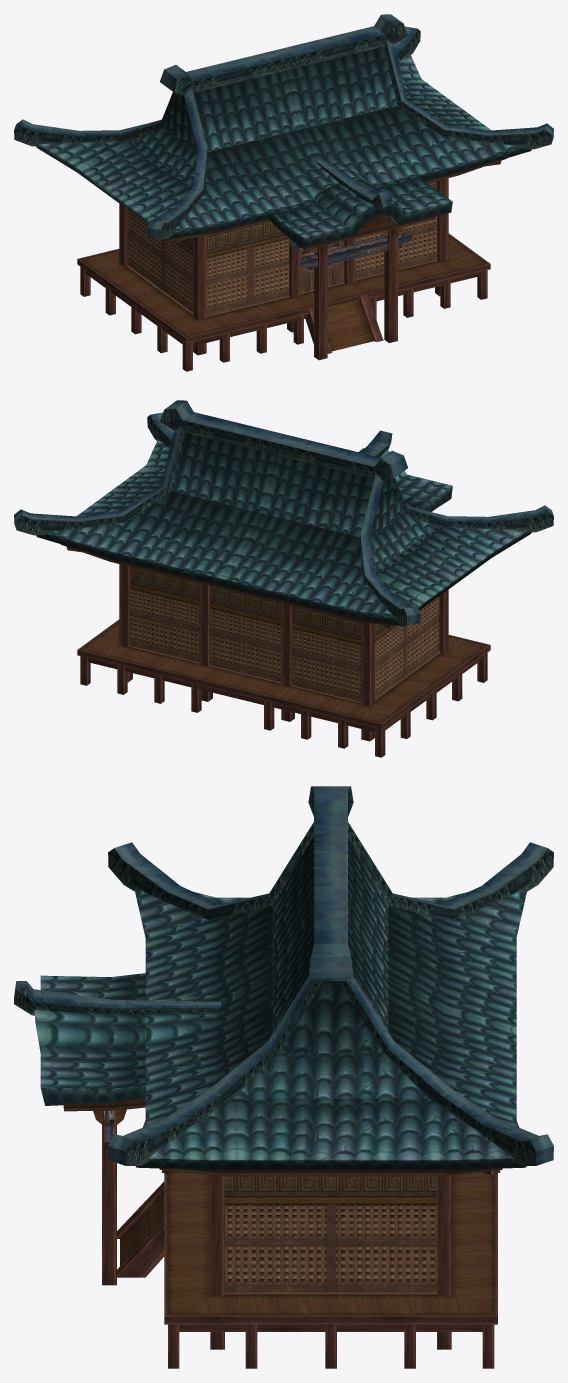
Rendered from environment_Building_luoxiaguan_001_d.FBX.
3 renders of one model, top to bottom at view 1: azimuth 30°, elevation 25°; view 2: azimuth 150°, elevation 25°; view 3: azimuth 270°, elevation 25°, orthographic. The views are drawn at different scales.
Visible parts, largest first — view 1: environment_Building_luoxiaguan_001_d; view 2: environment_Building_luoxiaguan_001_d; view 3: environment_Building_luoxiaguan_001_d.
Part boxes in pixels (x1=…): environment_Building_luoxiaguan_001_d: x1=14, y1=14, x2=553, y2=371; environment_Building_luoxiaguan_001_d: x1=14, y1=400, x2=553, y2=757; environment_Building_luoxiaguan_001_d: x1=14, y1=786, x2=553, y2=1368.
Bounding box in the file's own units: 1084 × 810 × 643.
Materials: 1 (1 with a texture image).
